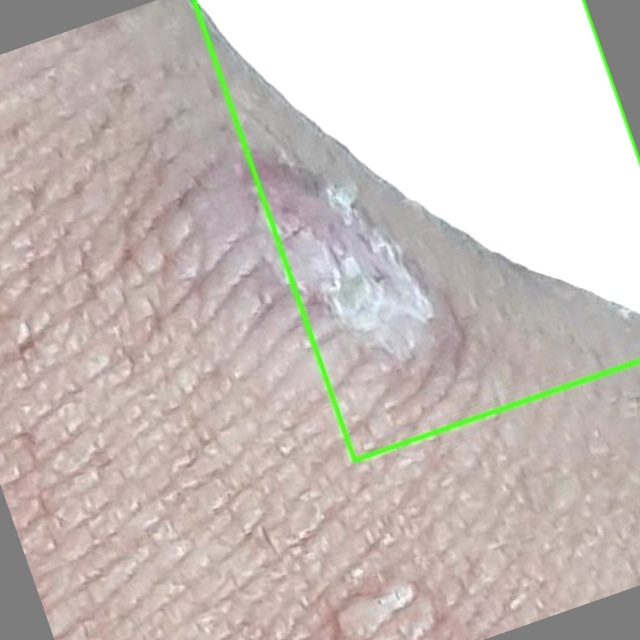Contact Dermatitis: (194, 0, 639, 460)
